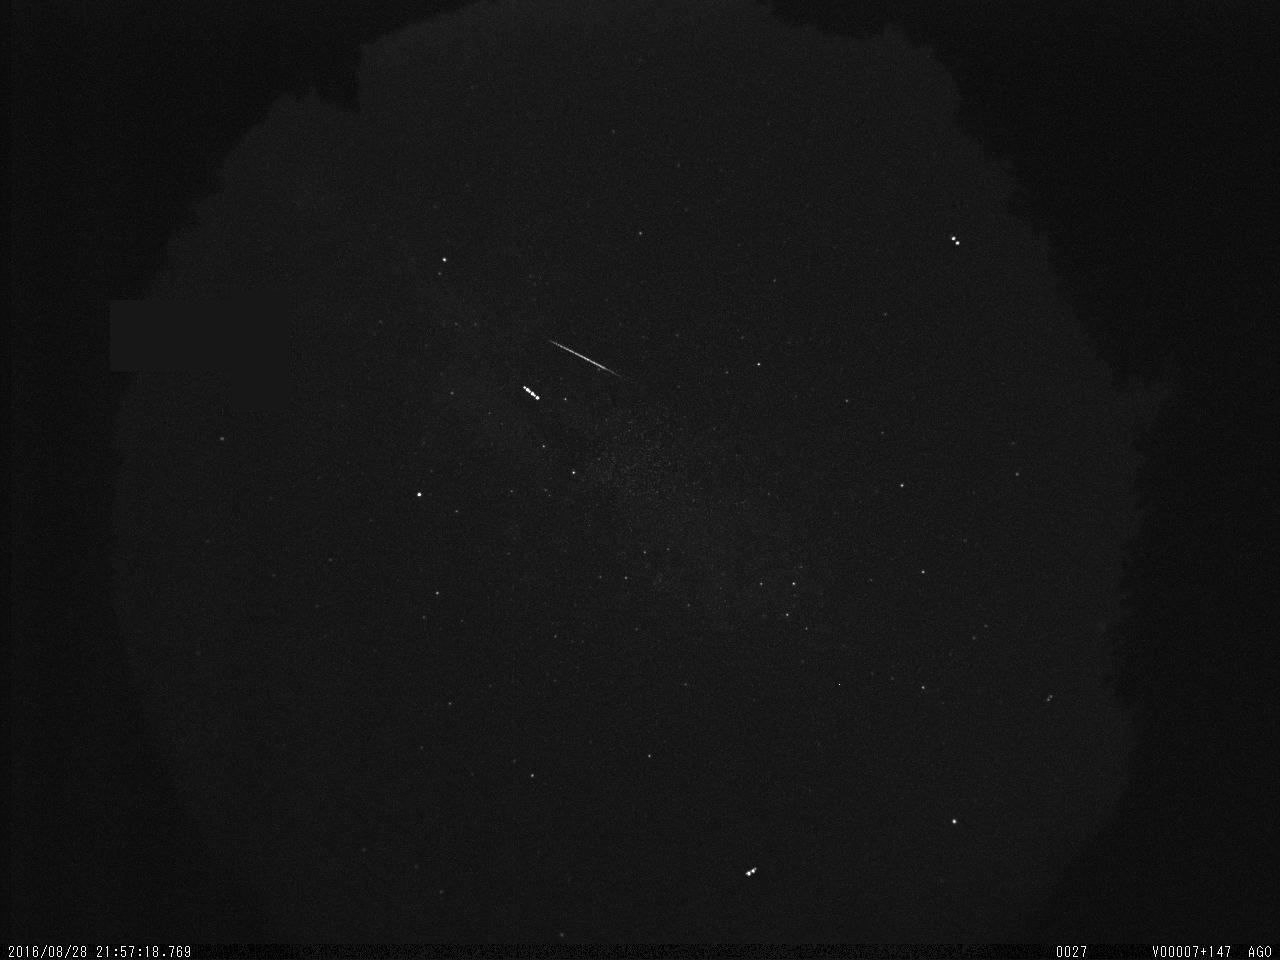meteor: (539, 326, 632, 380)
satelite: (517, 377, 545, 407), (945, 231, 965, 256), (742, 863, 761, 884)
